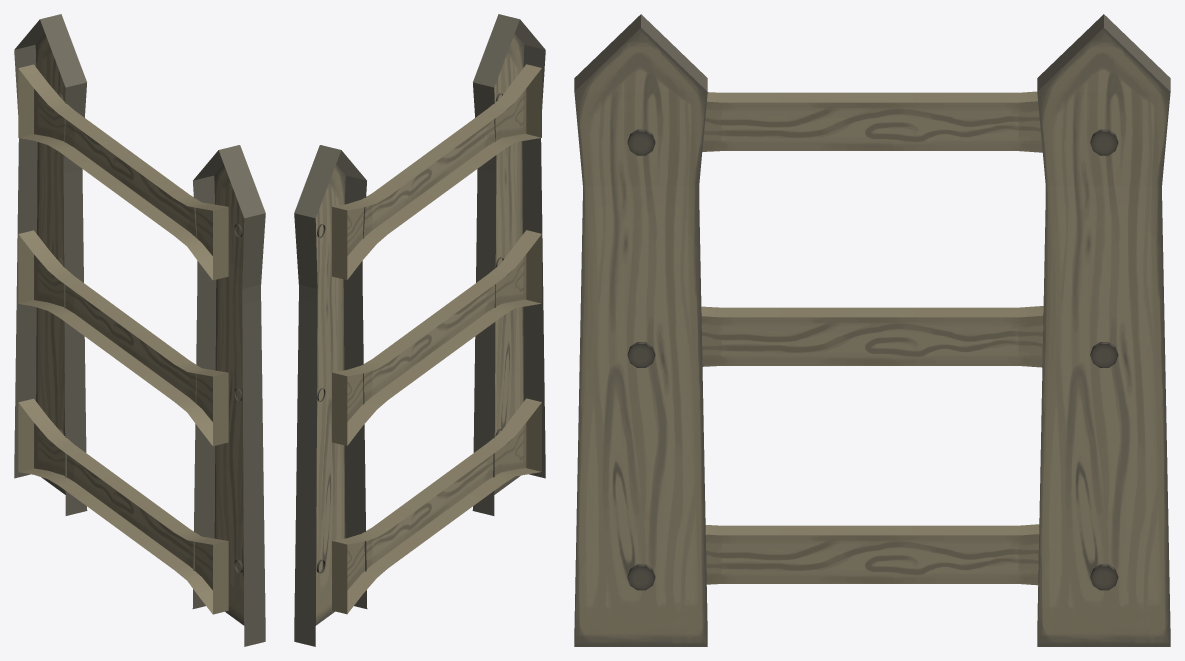
Rendered from Hek 1.fbx.
3 views of the same model, side by side, from view 1: azimuth 30°, elevation 25°; view 2: azimuth 150°, elevation 25°; view 3: azimuth 270°, elevation 25° (orthographic). The views are drawn at different scales.
Visible parts, largest first — view 1: paal.001, horizon paal; view 2: paal.001, horizon paal; view 3: paal.001, horizon paal, buttons.001.
Boxes of the visible parts, left/top/right/bottom form: paal.001: left=14, top=14, right=265, bottom=646; horizon paal: left=18, top=64, right=228, bottom=614; paal.001: left=294, top=14, right=545, bottom=646; horizon paal: left=332, top=64, right=541, bottom=614; paal.001: left=574, top=14, right=1170, bottom=646; horizon paal: left=701, top=91, right=1043, bottom=585; buttons.001: left=627, top=129, right=1118, bottom=590.
Size of the model in its own units: 37.87 by 401 by 350.
